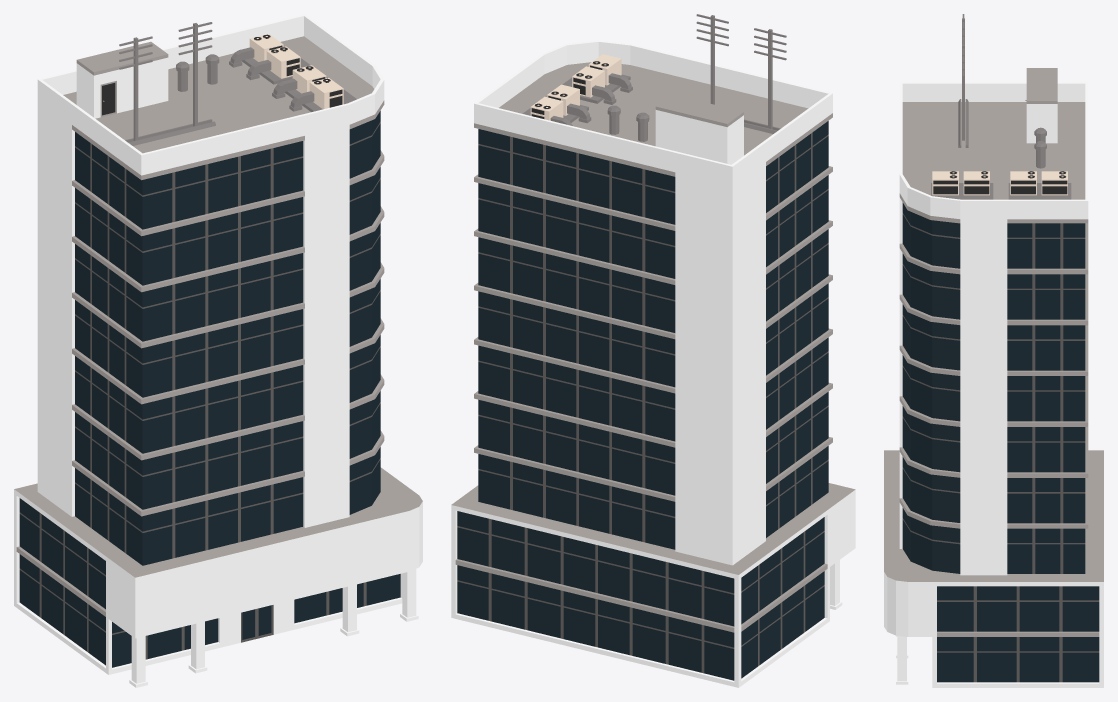
Rendered from building-office-rounded.glb.
3 renders of one model, left to right at view 1: azimuth 30°, elevation 25°; view 2: azimuth 150°, elevation 25°; view 3: azimuth 270°, elevation 25°, orthographic. The views are drawn at different scales.
Visible parts, largest first — view 1: building-office-rounded; view 2: building-office-rounded; view 3: building-office-rounded.
Boxes of the visible parts, x1,y1,x2,y2 form: building-office-rounded: (14,14,422,687); building-office-rounded: (451,14,855,687); building-office-rounded: (884,14,1103,687).
Bounding box in the file's own units: 20 × 39.4 × 14.1.
Materials: 1 (1 with a texture image).
